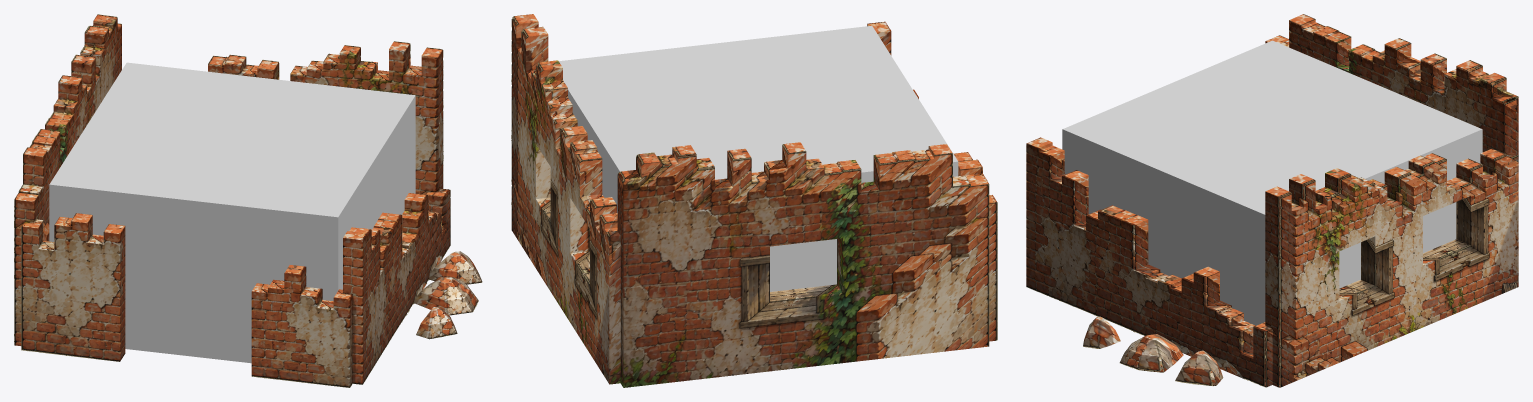
Rendered from ruin.glb.
3 renders of one model, left to right at view 1: azimuth 30°, elevation 25°; view 2: azimuth 150°, elevation 25°; view 3: azimuth 270°, elevation 25°, orthographic. The views are drawn at different scales.
Visible parts, largest first — view 1: inside_room, ruin_game; view 2: ruin_game, inside_room; view 3: ruin_game, inside_room.
Part boxes in pixels (box(x1,y1,x2,y2)): inside_room: box(49, 62, 415, 363); ruin_game: box(14, 14, 482, 387); ruin_game: box(511, 14, 997, 387); inside_room: box(559, 25, 958, 291); ruin_game: box(1026, 14, 1518, 387); inside_room: box(1062, 40, 1482, 325).
Bounding box in the file's own units: 7.21 × 3.25 × 7.21.
Materials: 1 (1 with a texture image).
